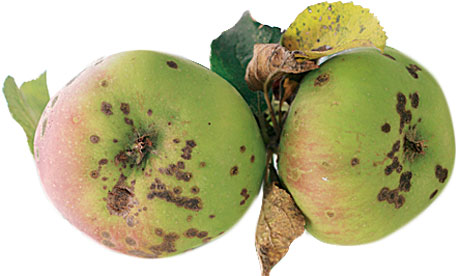defect: (83, 95, 218, 260), (379, 89, 455, 217), (382, 49, 425, 80), (159, 49, 191, 78), (304, 67, 341, 88)
